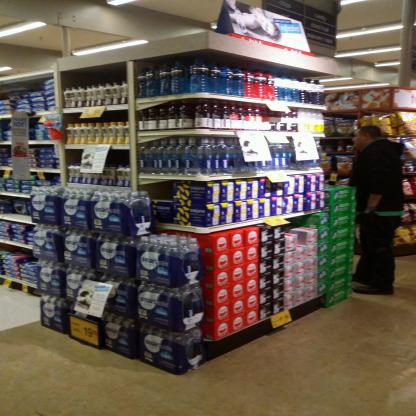Void: (67, 111, 122, 121), (64, 75, 127, 82), (150, 182, 171, 199), (114, 152, 129, 164), (288, 217, 306, 226), (70, 151, 79, 164), (266, 180, 276, 188), (294, 234, 303, 242)
